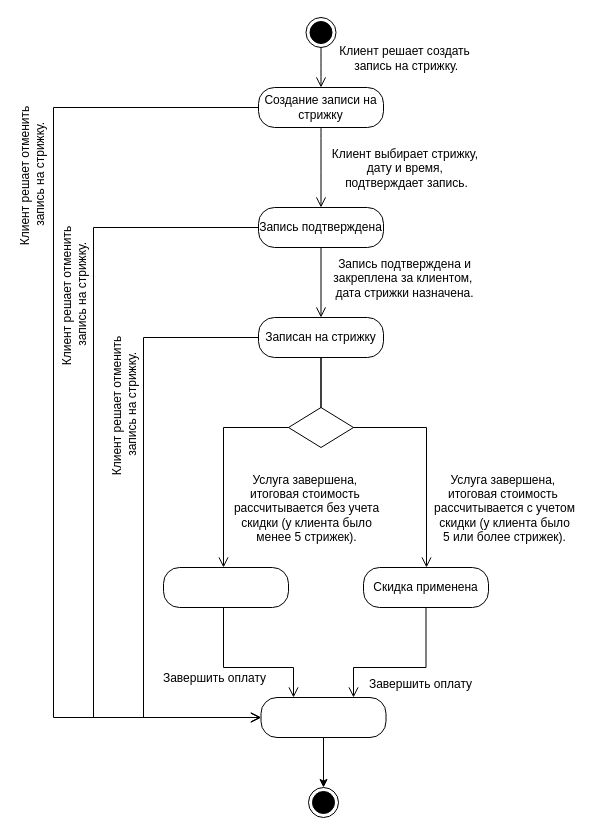
The diagram is 591 pixels wide and 835 high, and some of its shapes have lost their labels. The shapes that lost their labels are listed below. From the top down, each one's box as (x1, y1, x2, y2) in pixels, then its label:
(162, 566, 288, 608): Скидка не применена
(260, 696, 386, 738): Завершённый заказ
